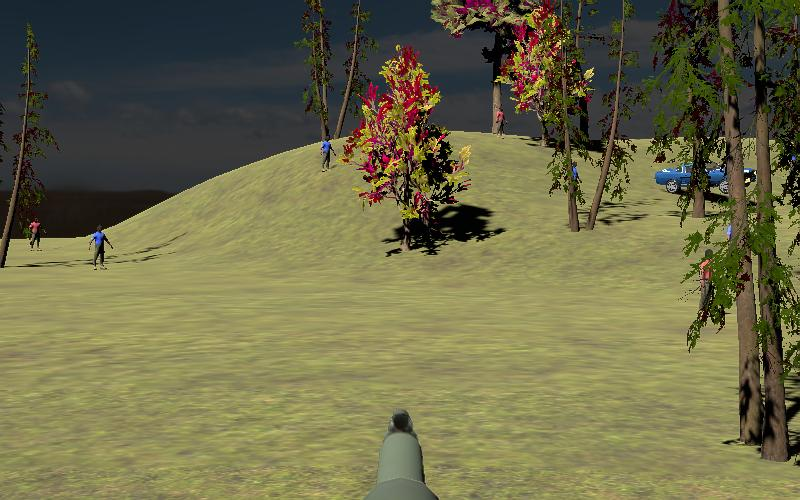Human: (89, 223, 113, 271), (28, 215, 46, 252), (319, 135, 336, 173)
car: (654, 163, 701, 194)
